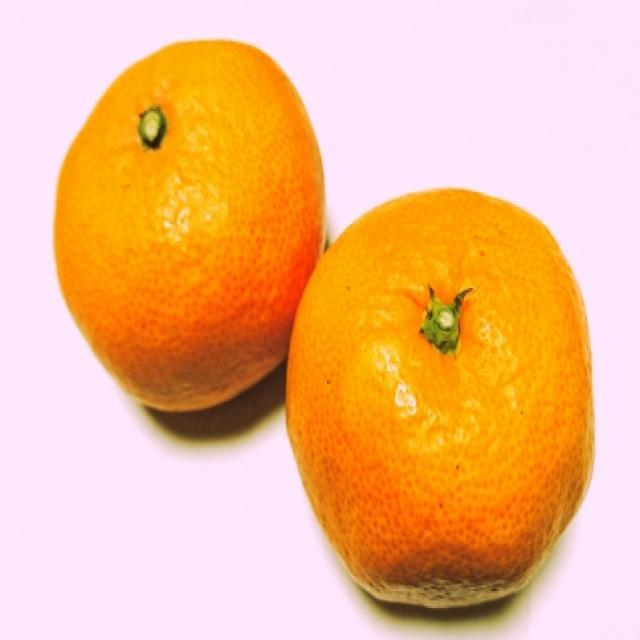Orange: (285, 184, 597, 606), (53, 41, 326, 412)
